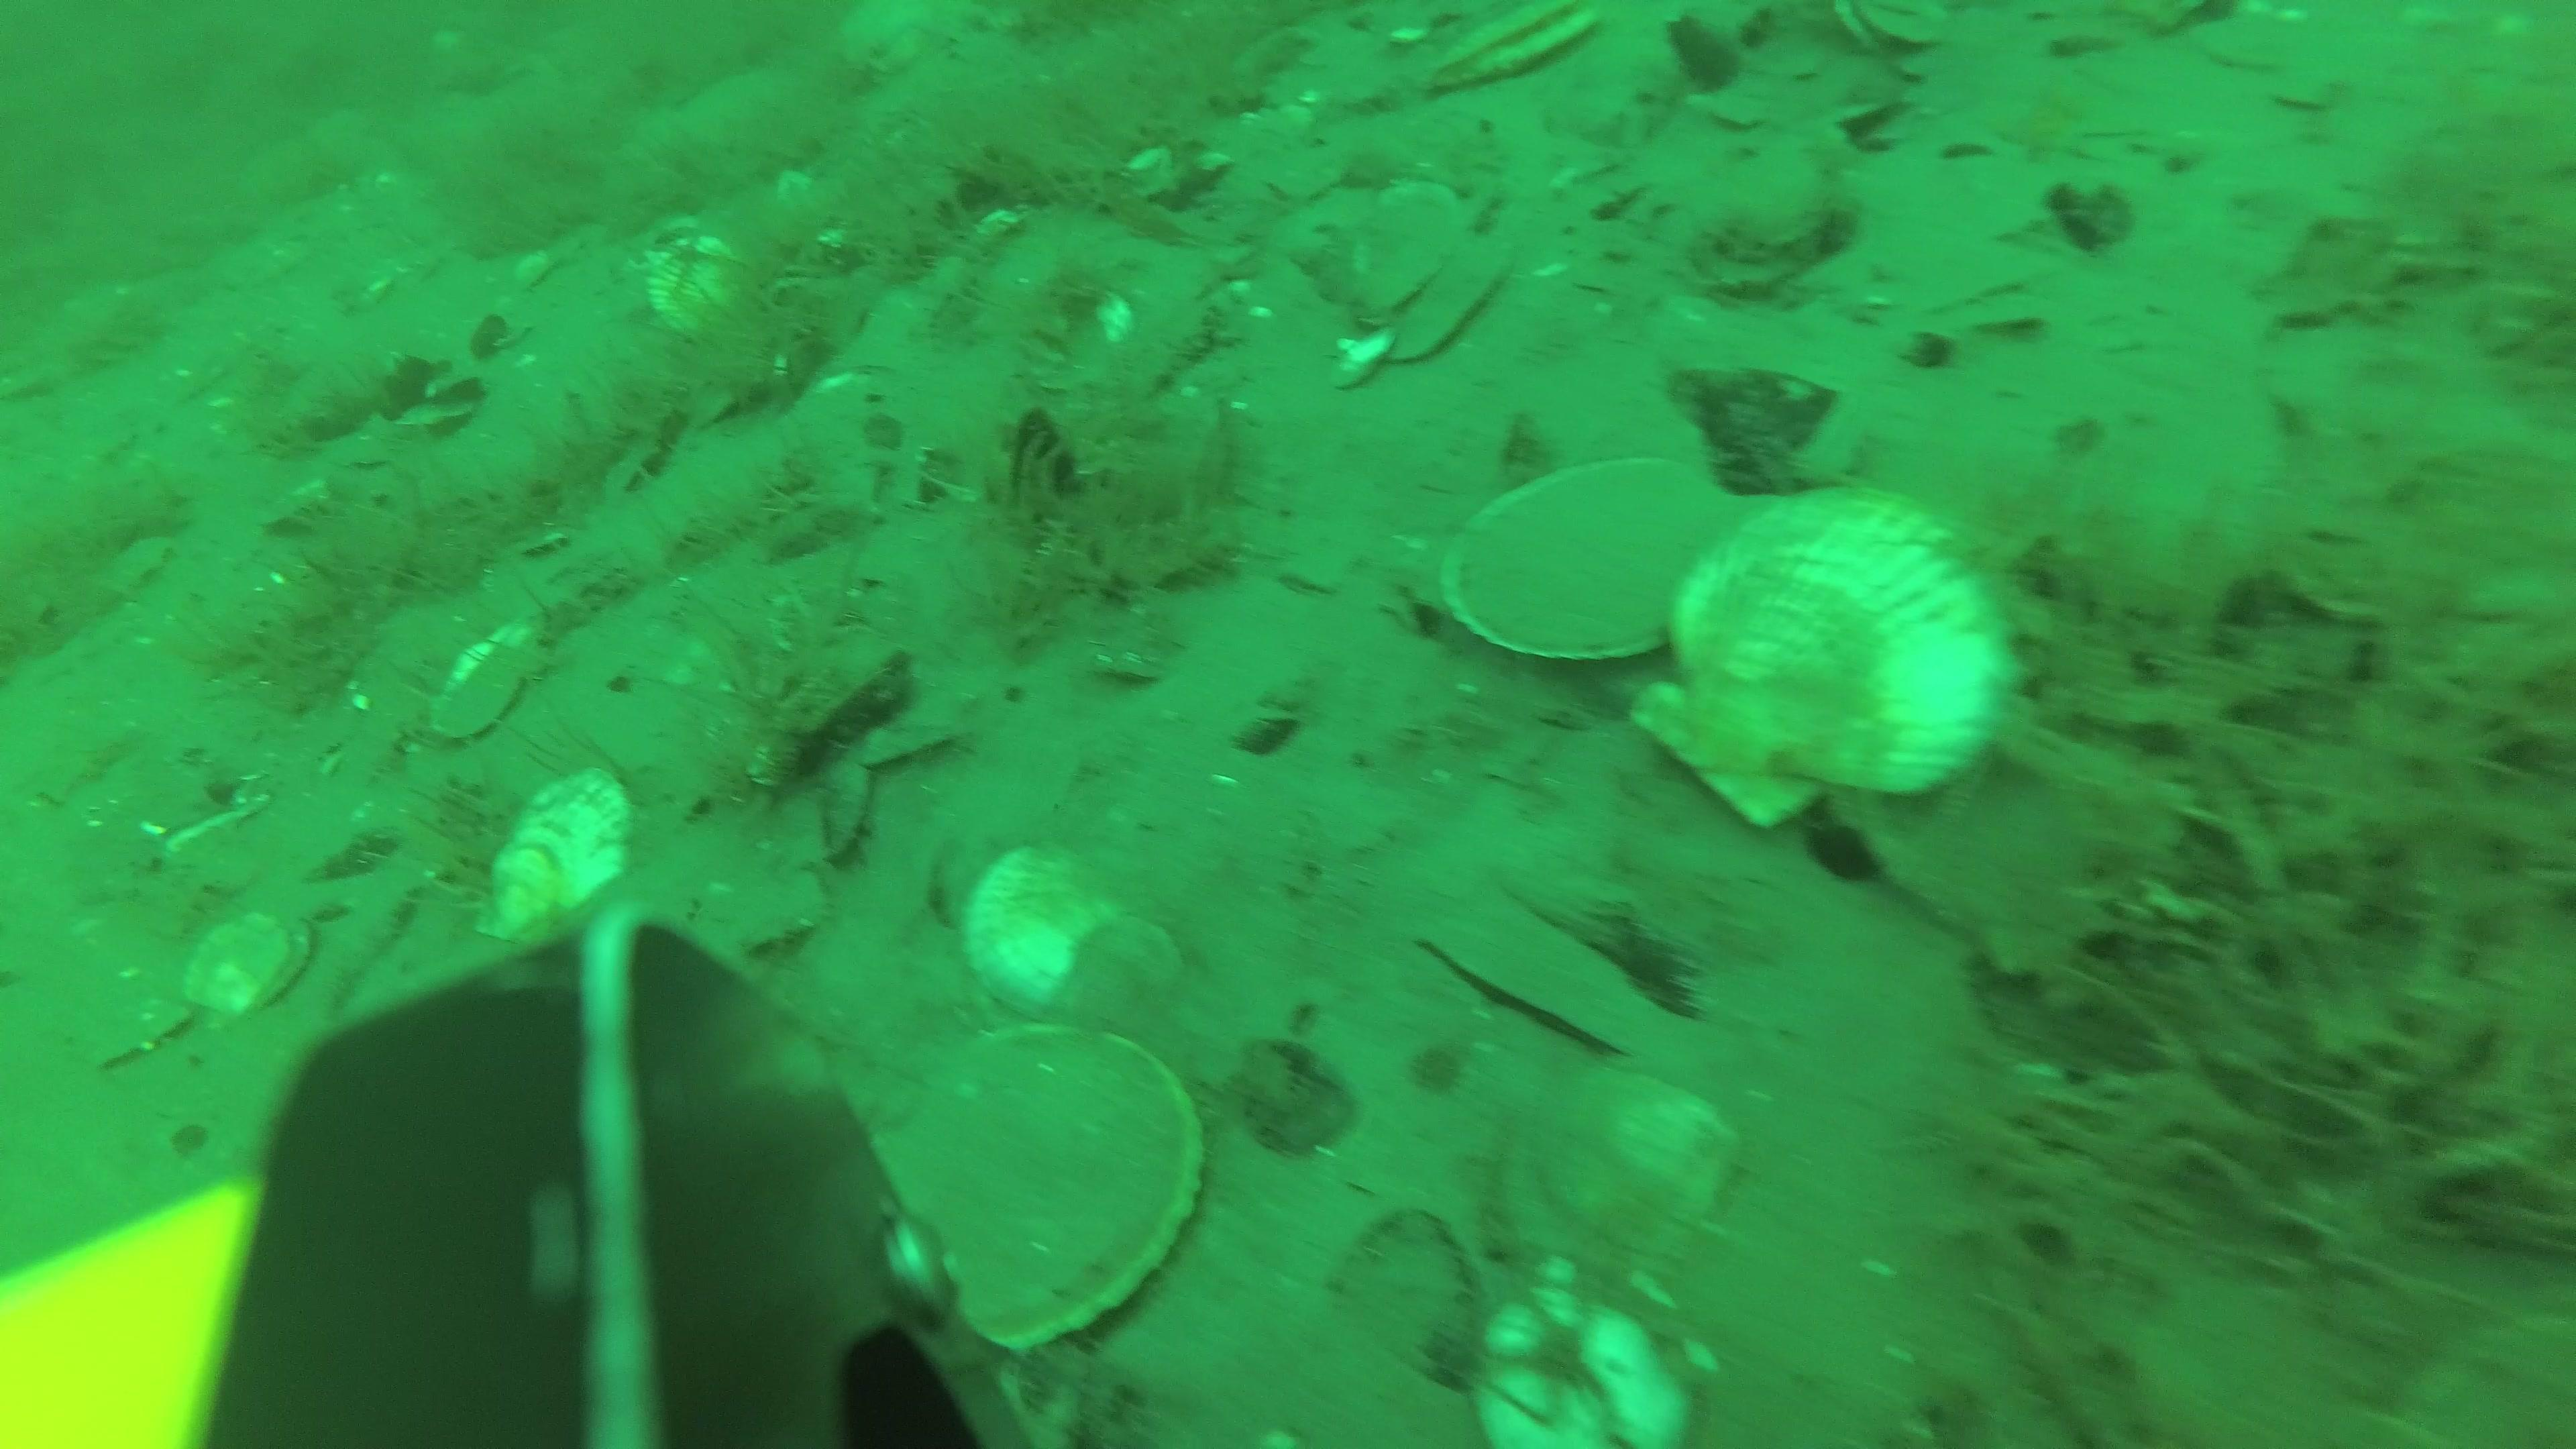scallop: (1635, 488, 1994, 830), (867, 1024, 1189, 1350), (1437, 453, 1737, 655), (1460, 1254, 1700, 1449), (1537, 1060, 1730, 1238), (966, 847, 1145, 1016), (487, 773, 628, 945), (1346, 177, 1472, 313), (1419, 0, 1592, 96), (444, 614, 550, 748), (1389, 246, 1509, 356), (1063, 924, 1182, 1028), (189, 922, 310, 1014), (653, 235, 743, 340)
starfish: (847, 0, 985, 69)
